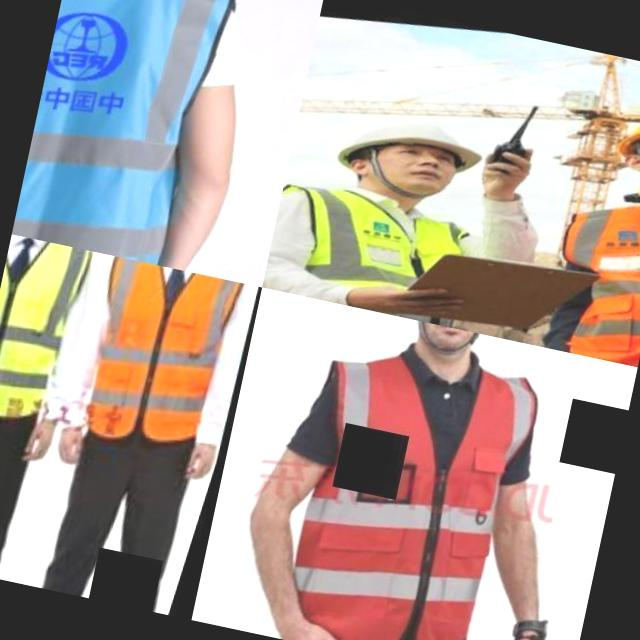vest: (269, 325, 571, 640), (11, 0, 270, 275), (75, 255, 262, 466), (262, 175, 487, 330), (0, 234, 101, 429), (556, 147, 640, 367)
